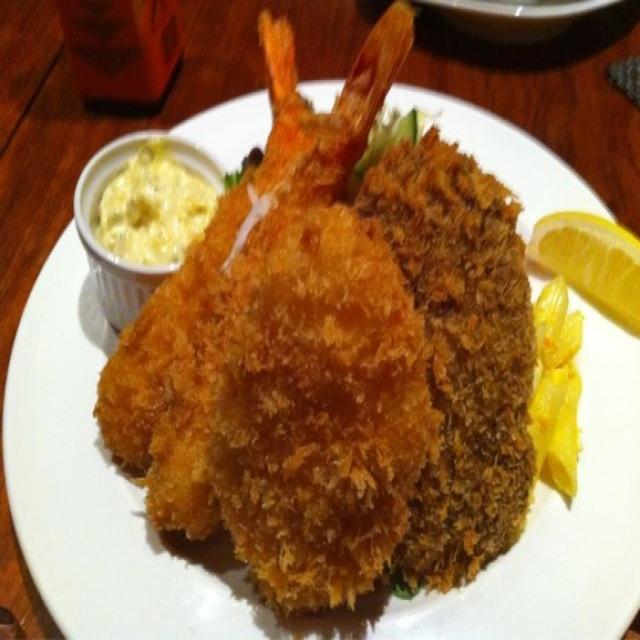炸货点心: (3, 8, 636, 631)
